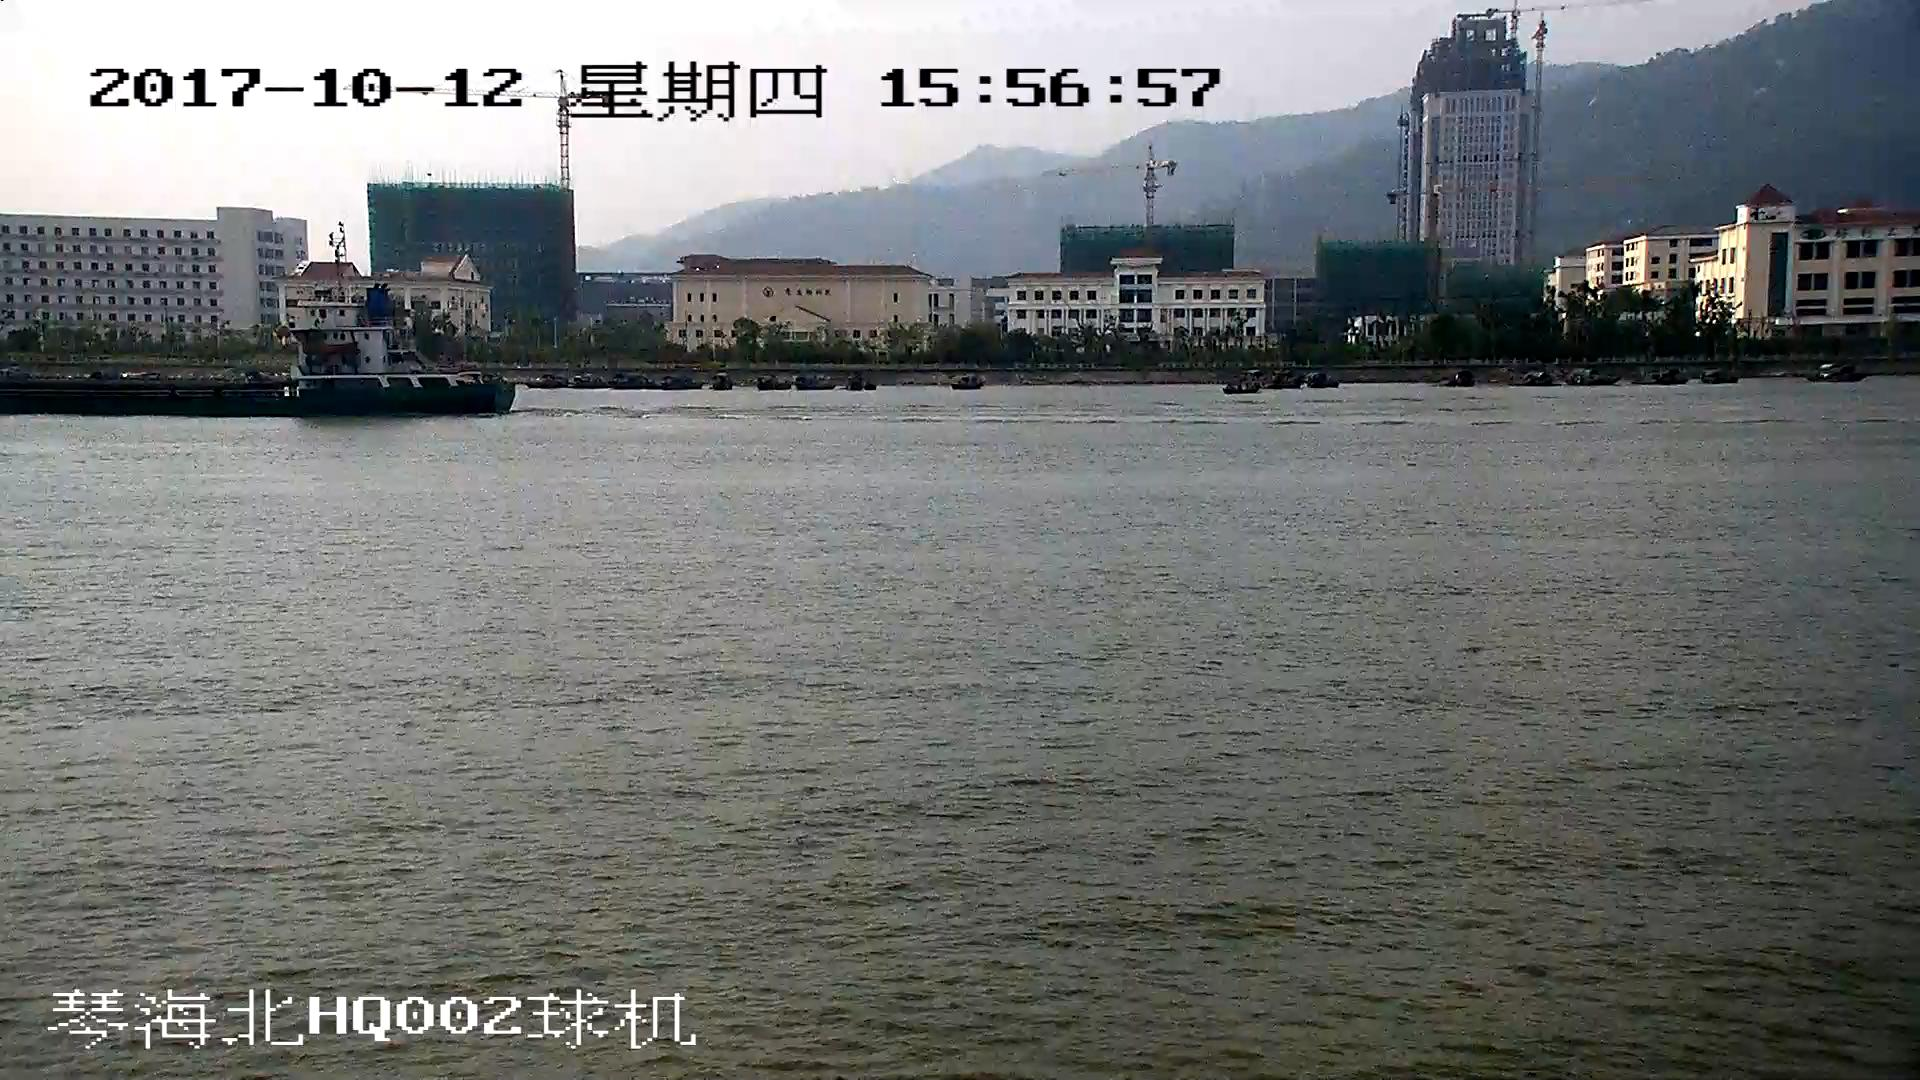general cargo ship: (1, 301, 520, 417)
